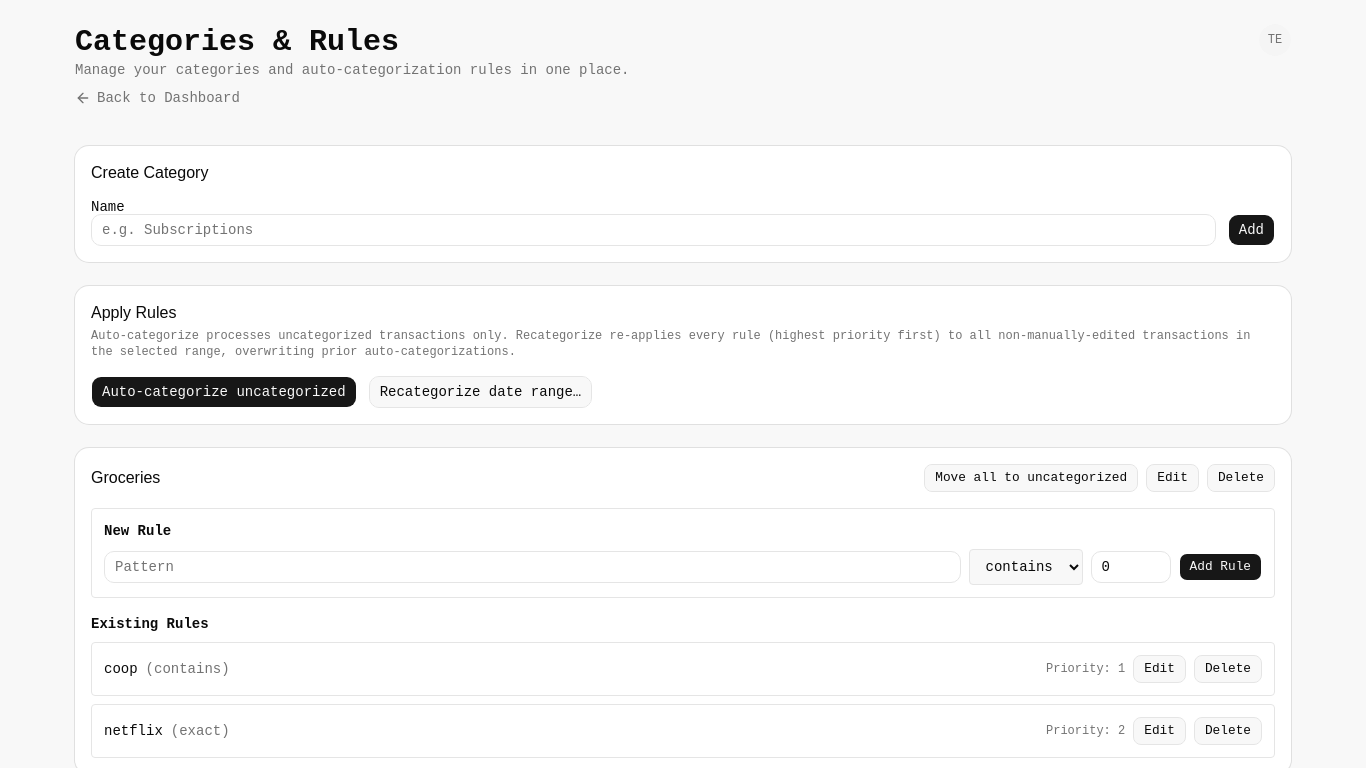
Scenario: CategoriesPage › renders a degraded-state notice when /category-rules/overlap fails
This screenshot has width=1366, height=768.
Expected: the heading "Groceries" is shown, [91,466,160,490]
Type "coop" into the field named "New rule pattern for Groceries" at (532, 567), box [104,551,961,583]
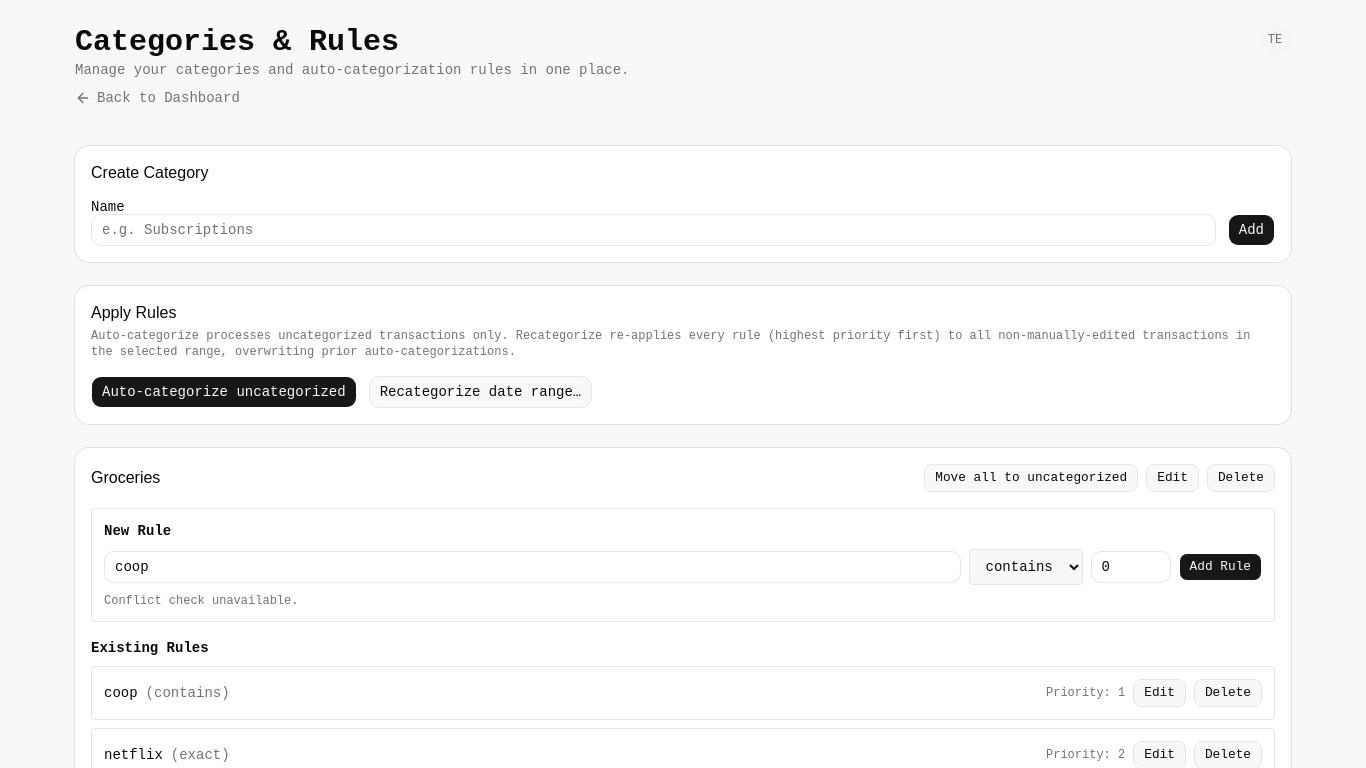
Expected: the message "Conflict check unavailable." is shown, [104,594,298,608]
